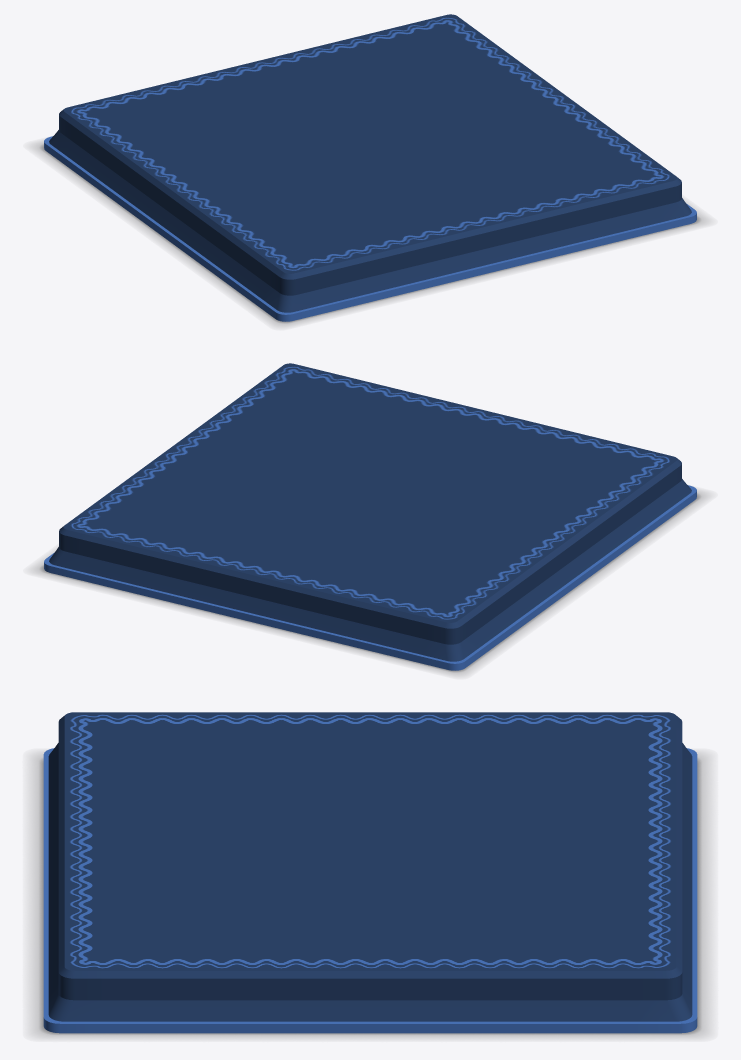
The model's file is island_box.glb.
The picture shows the model from 3 angles, top to bottom: view 1: azimuth 30°, elevation 25°; view 2: azimuth 150°, elevation 25°; view 3: azimuth 270°, elevation 25°; orthographic projection. The views are drawn at different scales.
Parts seen in each view (by area): view 1: Cube.042; view 2: Cube.042; view 3: Cube.042.
Part boxes in pixels (bbox=[...]): Cube.042: bbox=[34, 14, 706, 325]; Cube.042: bbox=[35, 363, 705, 674]; Cube.042: bbox=[34, 712, 706, 1036].
Size of the model in its own units: 24 by 2 by 24.
4 materials, 4 textured.
